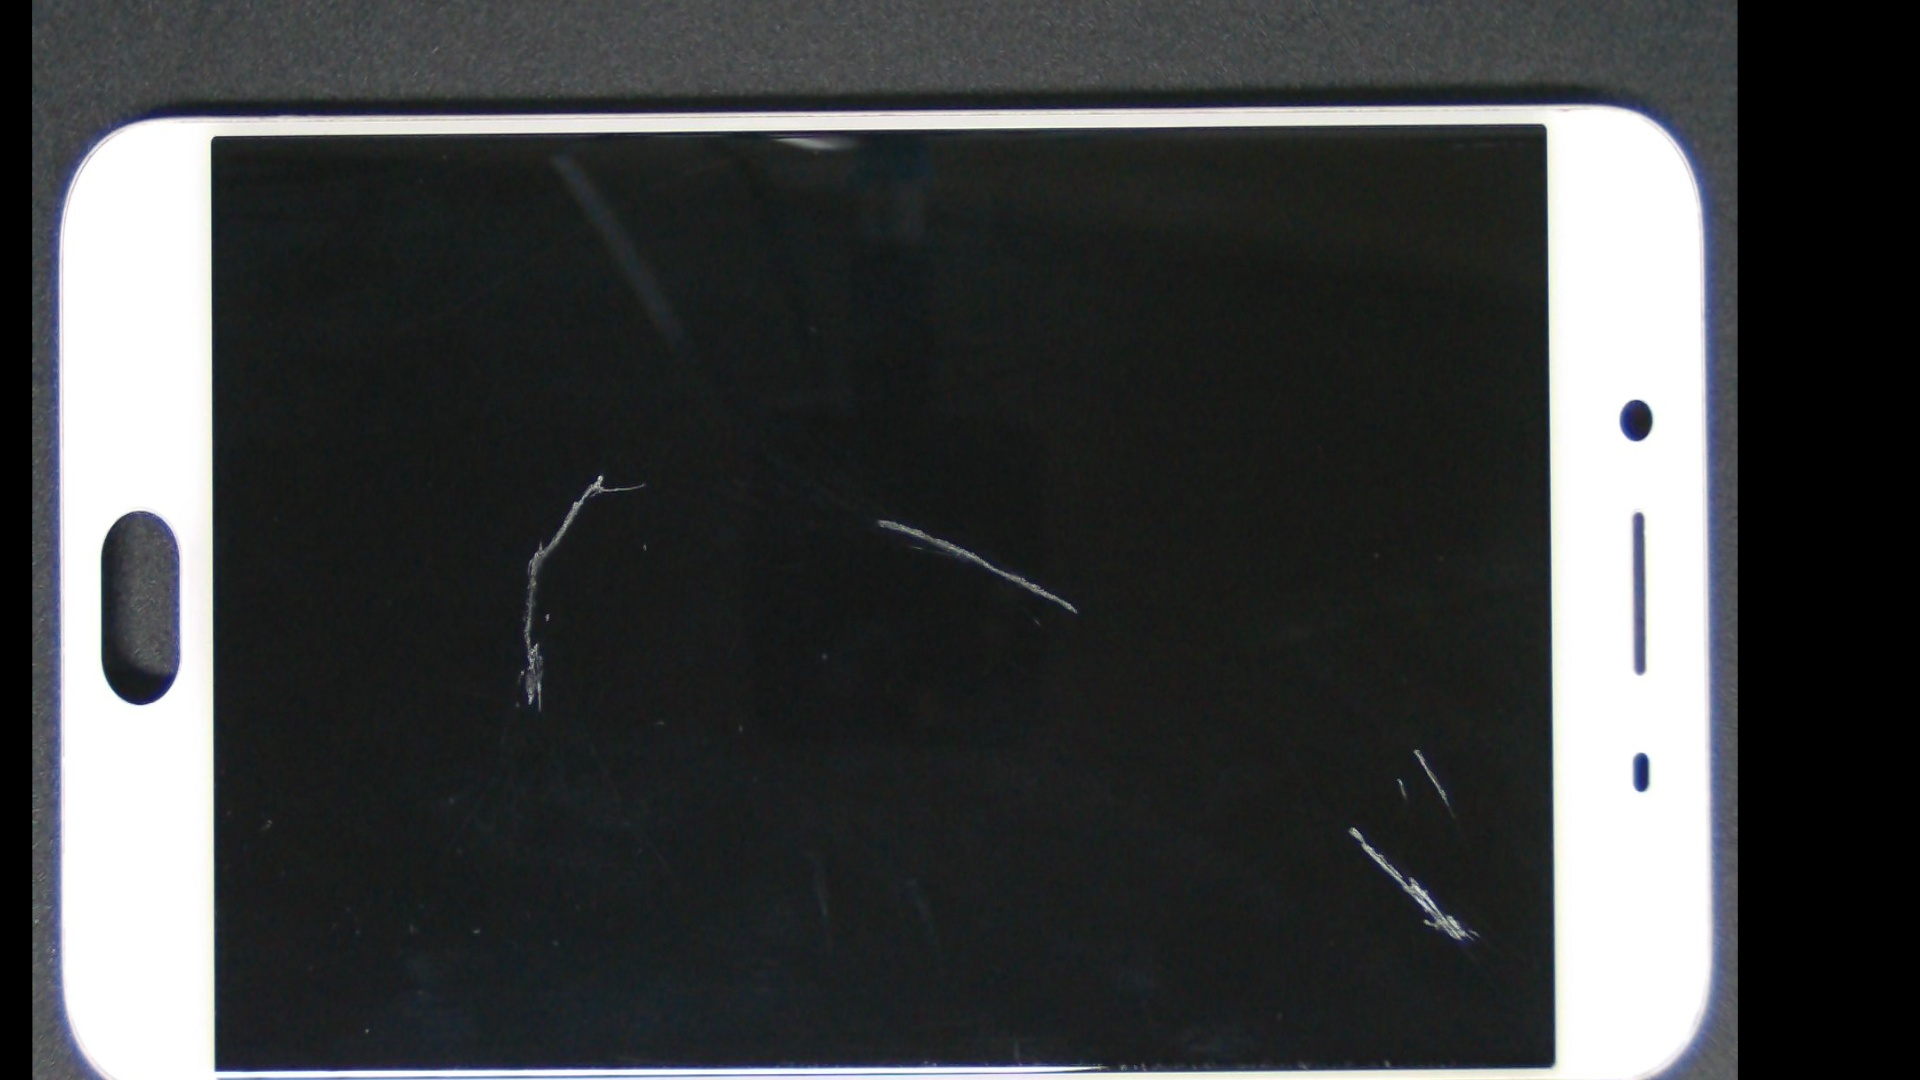oil: (725, 369, 1738, 1080), (716, 385, 1738, 1080), (692, 409, 1738, 1080), (456, 255, 1300, 783), (290, 302, 804, 924), (318, 233, 886, 715)
